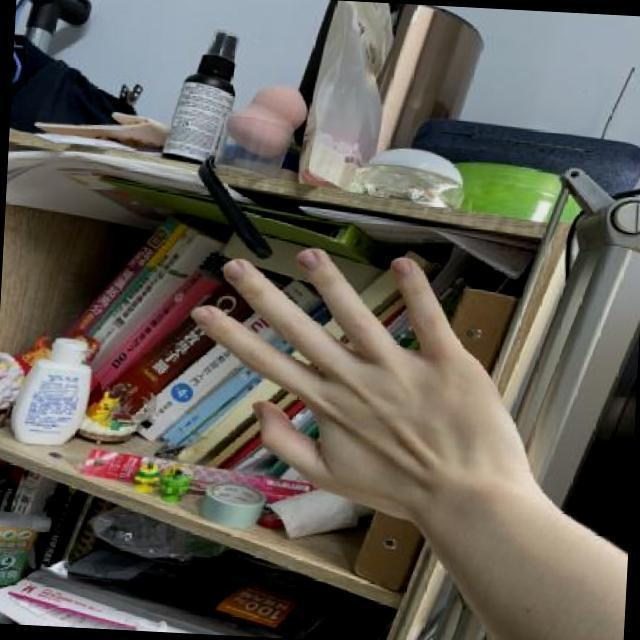hand: (158, 226, 560, 544)
